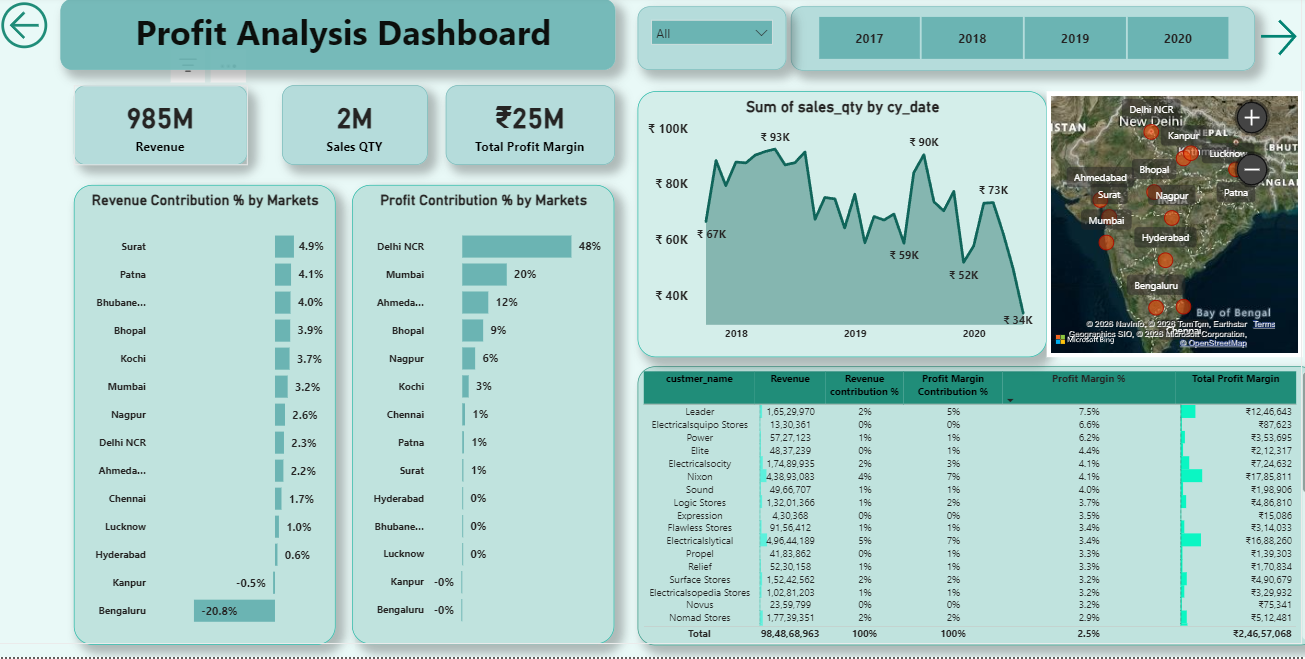

The dashboard page shown, as its layout file describes it:
{"tool":"powerbi","page":{"name":"Profit Analysis","canvas":[1441,720],"ordinal":2},"visuals":[{"type":"card","fields":{"Values":["Basemeasure.Revenue"]},"box":[86.6,97.6,188.9,86.6],"z":0,"group":"g1"},{"type":"card","fields":{"Values":["Basemeasure.Sales QTY"]},"box":[313.2,97.6,159,86.6],"z":1000,"group":"g1"},{"type":"clusteredBarChart","title":"Profit Contribution %  by Markets","fields":{"Y":["Basemeasure.Profit Margin Contribution %"],"Category":["sales markets.markets_name"]},"box":[389.4,205.7,285.6,499.9],"z":2000,"group":"g1"},{"type":"slicer","fields":{"Values":["sales date.year"]},"box":[866.8,11.3,505.5,69.7],"z":3000,"group":"g1"},{"type":"slicer","fields":{"Values":["sales date.cy_date"]},"box":[700.5,11,162.1,69.3],"z":4000,"group":"g1"},{"type":"areaChart","fields":{"Category":["sales date.cy_date"],"Y":["Sum(sales transactions.sales_qty)"]},"box":[699.9,103.7,445.6,290],"z":5000,"group":"g1"},{"type":"card","fields":{"Values":["Basemeasure.Total Profit Margin"]},"box":[491.1,97.6,184.2,86.6],"z":6000,"group":"g1"},{"type":"clusteredBarChart","title":"Revenue Contribution %  by Markets","fields":{"Y":["Basemeasure.Profit Margin %"],"Category":["sales markets.markets_name"]},"box":[86.6,206.2,284.9,500.6],"z":7000,"group":"g1"},{"type":"tableEx","fields":{"Values":["sales customers.custmer_name","Basemeasure.Revenue","Basemeasure.Revenue contribution %","Basemeasure.Profit Margin Contribution %","Basemeasure.Profit Margin %","Basemeasure.Total Profit Margin"]},"box":[699.6,402.8,740.6,303.9],"z":8000},{"type":"textbox","box":[70.8,3.1,604.4,77.1],"z":9000,"group":"g1"},{"type":"actionButton","box":[0,0,99.7,63.7],"z":10000,"group":"g1"},{"type":"actionButton","box":[1372.3,11.3,50.2,68],"z":11000,"group":"g1"},{"type":"map","fields":{"Category":["sales markets.State"]},"box":[1145.5,103.7,278.7,290],"z":12000,"group":"g1"},{"type":"group","id":"g1","title":"Group 1","box":[0,0,1424.1,706.8],"z":12001}]}

Visuals, with their boxes in screenshot pixels (x1, y1, x2, y2), scaled from the page's 1441x720 canvas onto the 1305x659 screenshot:
card - Basemeasure.Revenue: [78,89,249,169]
card - Basemeasure.Sales QTY: [284,89,428,169]
"Profit Contribution %  by Markets" clusteredBarChart: [353,188,611,646]
slicer - sales date.year: [785,10,1243,74]
slicer - sales date.cy_date: [634,10,781,73]
areaChart - sales date.cy_date x Sum(sales transactions.sales_qty): [634,95,1037,360]
card - Basemeasure.Total Profit Margin: [445,89,612,169]
"Revenue Contribution %  by Markets" clusteredBarChart: [78,189,336,647]
tableEx - sales customers.custmer_name x Basemeasure.Revenue: [634,369,1304,647]
textbox: [64,3,611,73]
actionButton: [0,0,90,58]
actionButton: [1243,10,1288,73]
map - sales markets.State: [1037,95,1290,360]
"Group 1" group: [0,0,1290,647]
